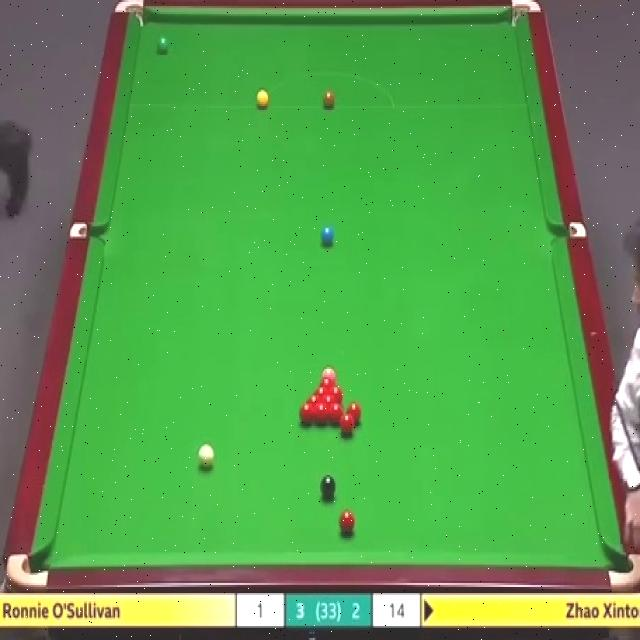black-ball: (321, 475, 336, 501)
blue-ball: (321, 226, 334, 246)
brown-ball: (322, 91, 335, 110)
green-ball: (157, 37, 169, 55)
pink-ball: (321, 365, 338, 378)
red-ball: (338, 509, 354, 536), (298, 402, 314, 425), (329, 403, 344, 426), (347, 402, 361, 426), (340, 414, 354, 437), (314, 402, 328, 423), (330, 385, 343, 401), (317, 374, 335, 385), (313, 385, 329, 395), (306, 394, 321, 404), (321, 394, 337, 403)
white-ball: (198, 442, 215, 470)
yellow-ball: (256, 89, 268, 108)
